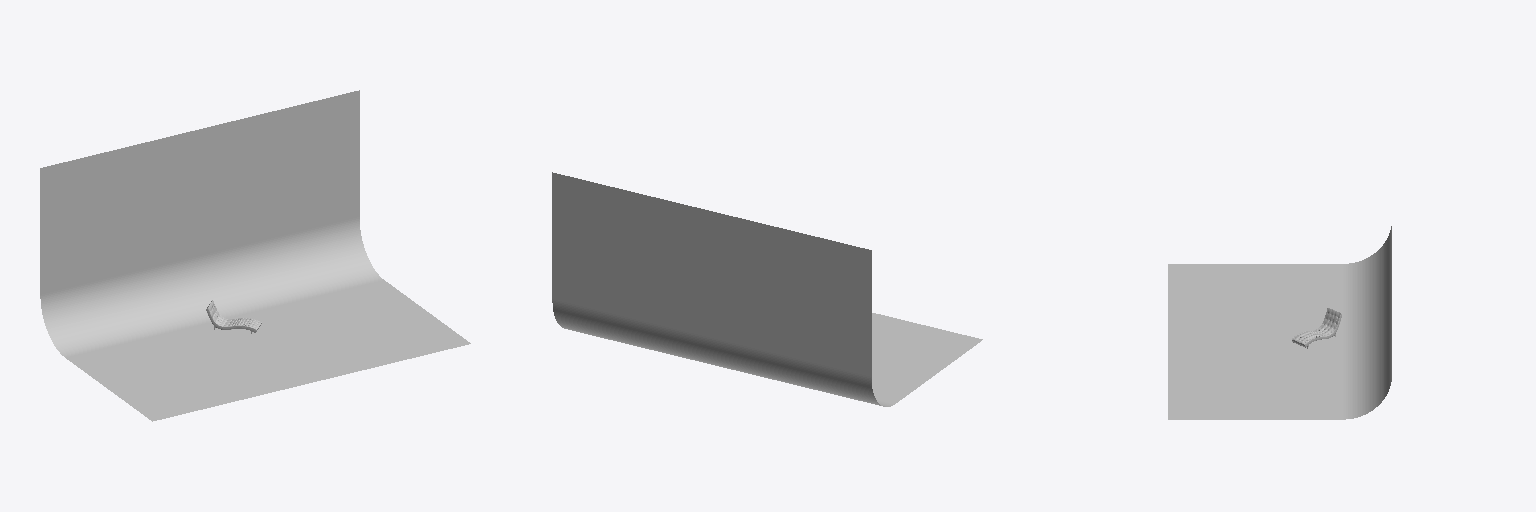
The model's file is roche.obj.
The picture shows the model from 3 angles: view 1: azimuth 30°, elevation 25°; view 2: azimuth 150°, elevation 25°; view 3: azimuth 270°, elevation 25°; orthographic projection.
Parts seen in each view (by area): view 1: Line03, Kreslo; view 2: Line03; view 3: Line03, Kreslo.
Part boxes in pixels (x1,y1,x2,y2): Line03: (40,90,470,421); Kreslo: (206,300,261,332); Line03: (552,172,982,406); Line03: (1168,226,1391,419); Kreslo: (1292,308,1341,347).
Size of the model in its own units: 13416 by 6892 by 8163.